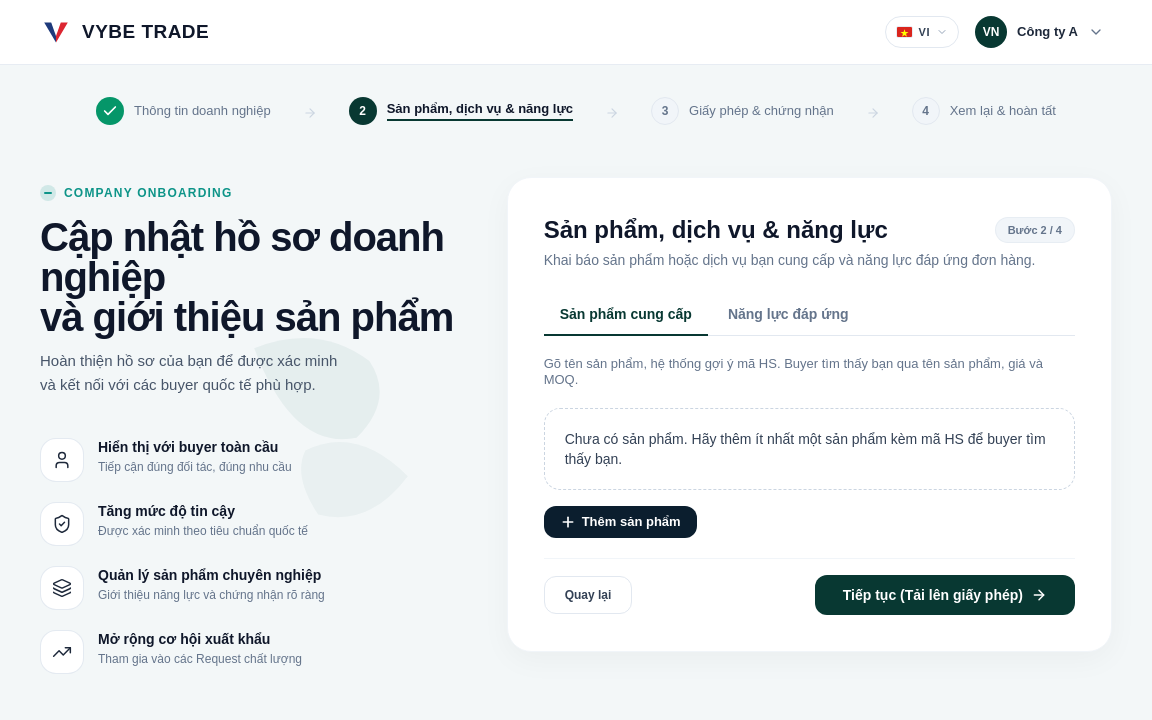
it: SellerOnboarding bước 2 — sản phẩm (B5) › chưa có sản phẩm nào thì không qua được bước 2
Click the button "Tiếp tục (Tải lên giấy phép)": (945, 595) [815,575,1075,615]
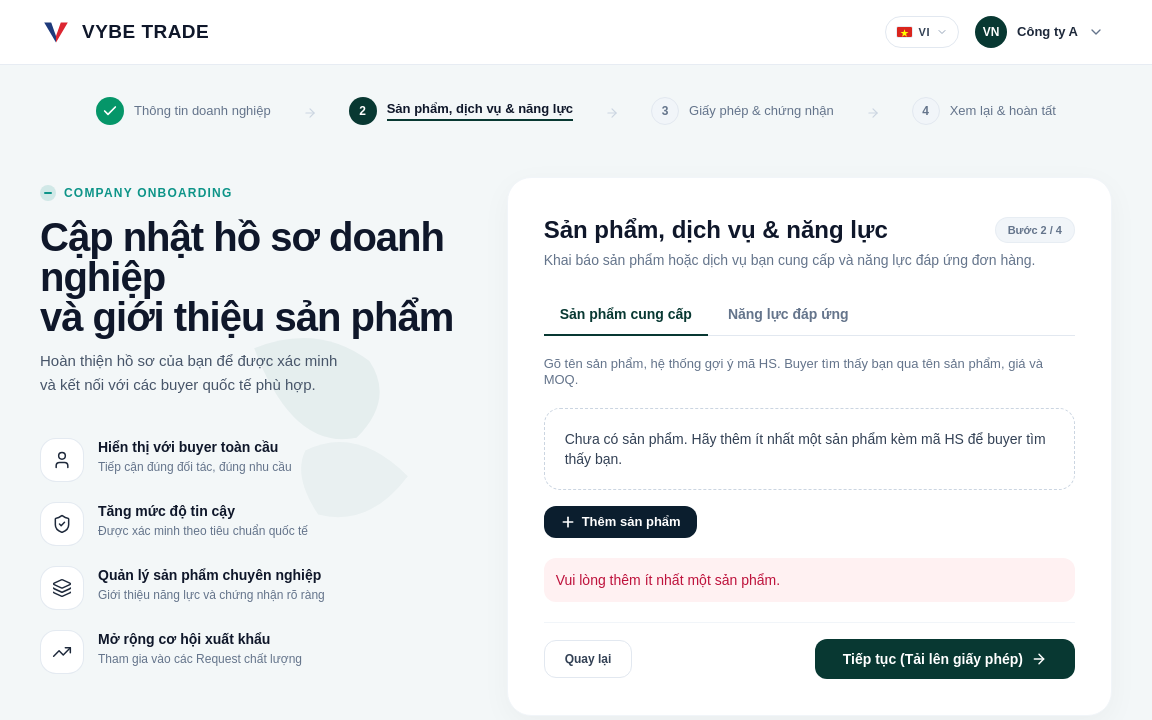
Check: the message "Vui lòng thêm ít nhất một sản phẩm." is shown, box [544,558,1075,602]
